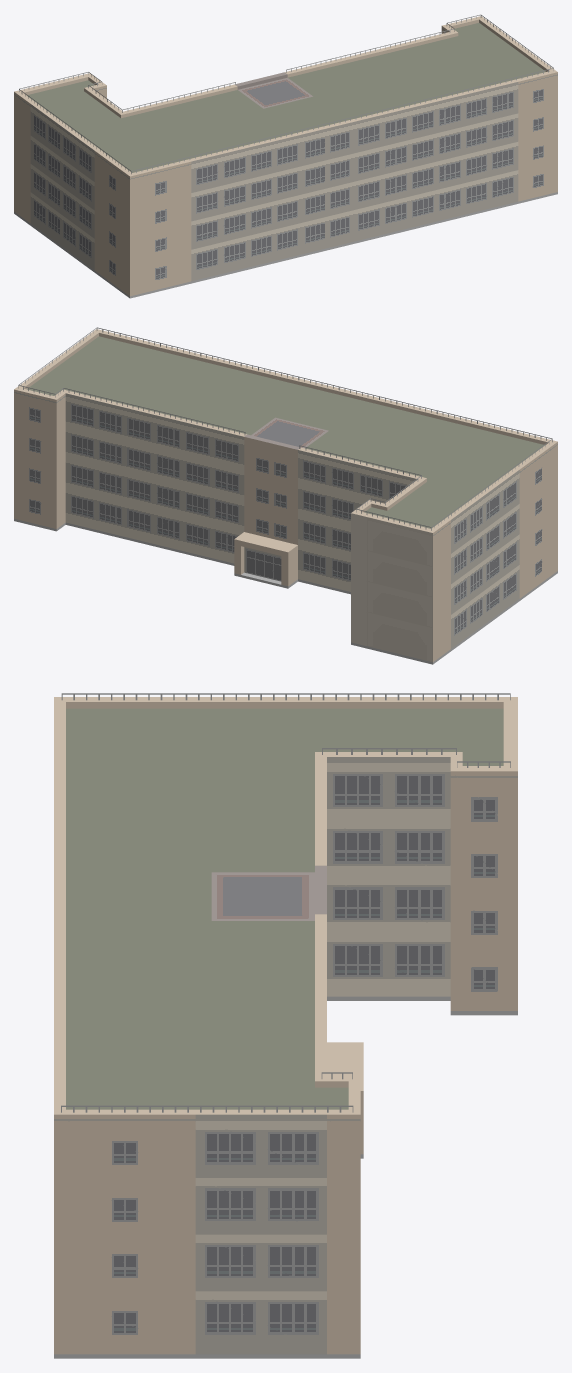
File: 0262_Middle_School.glb
3 renders of one model, top to bottom at view 1: azimuth 30°, elevation 25°; view 2: azimuth 150°, elevation 25°; view 3: azimuth 270°, elevation 25°, orthographic. The views are drawn at different scales.
Visible parts, largest first — view 1: part_0; view 2: part_0; view 3: part_0.
Boxes of the visible parts, x1,y1,x2,y2 form: part_0: (14,14,557,298); part_0: (14,327,557,664); part_0: (54,693,517,1358).
Size of the model in its own units: 42.42 by 11.89 by 19.92.
1 material, 1 textured.
